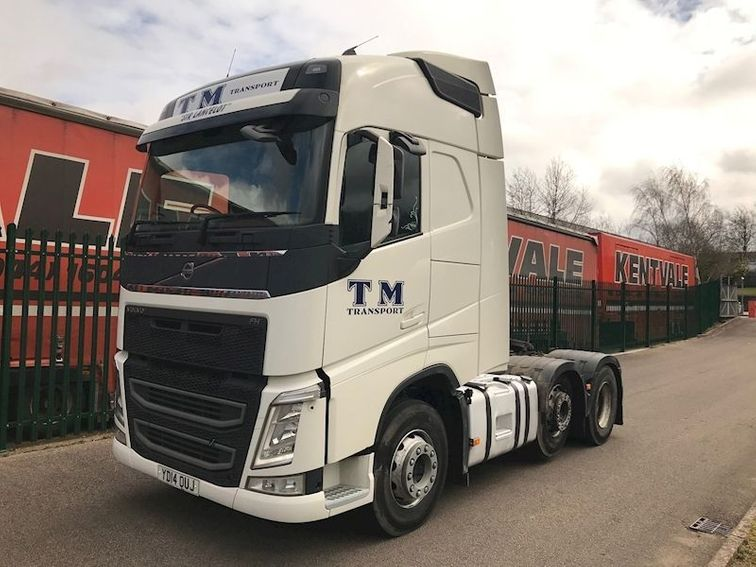Semi: (112, 36, 621, 538)
